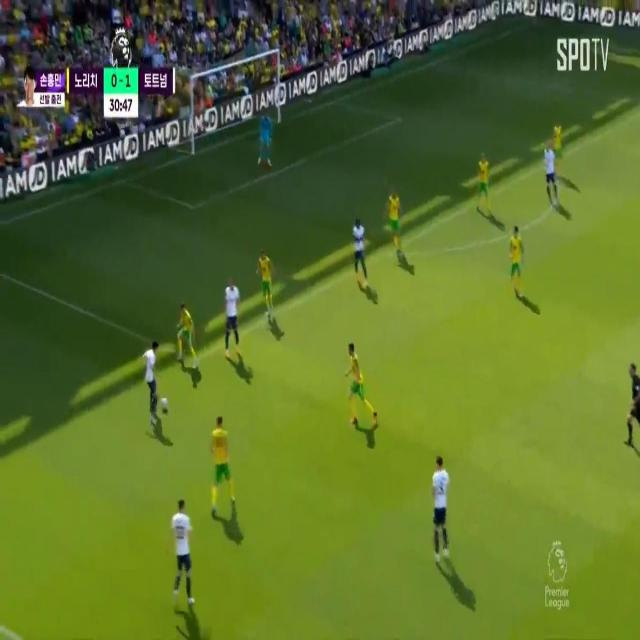ball: (157, 394, 173, 420)
player: (210, 410, 234, 514), (170, 498, 192, 598), (344, 340, 370, 424), (433, 450, 449, 562), (349, 216, 373, 283), (225, 274, 242, 356), (257, 252, 277, 320), (385, 189, 405, 255), (478, 153, 496, 212), (177, 295, 192, 365), (146, 334, 156, 422), (510, 226, 524, 285), (543, 142, 555, 198), (552, 119, 565, 164)
referee: (624, 358, 640, 453)
